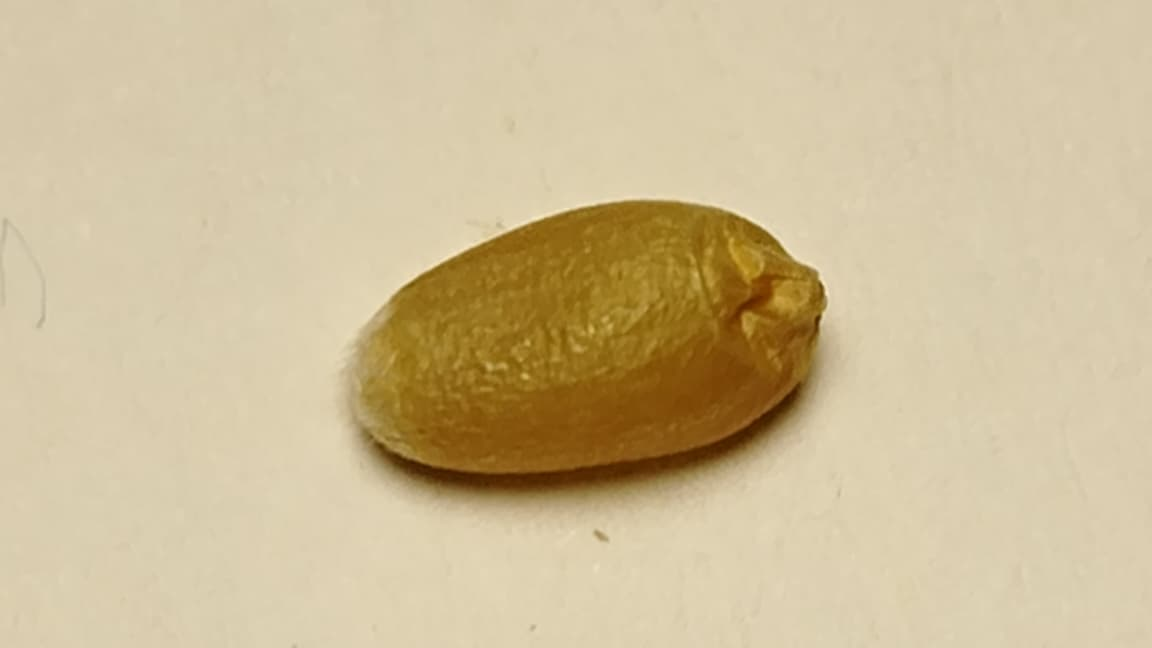healthy: (350, 200, 826, 472)
